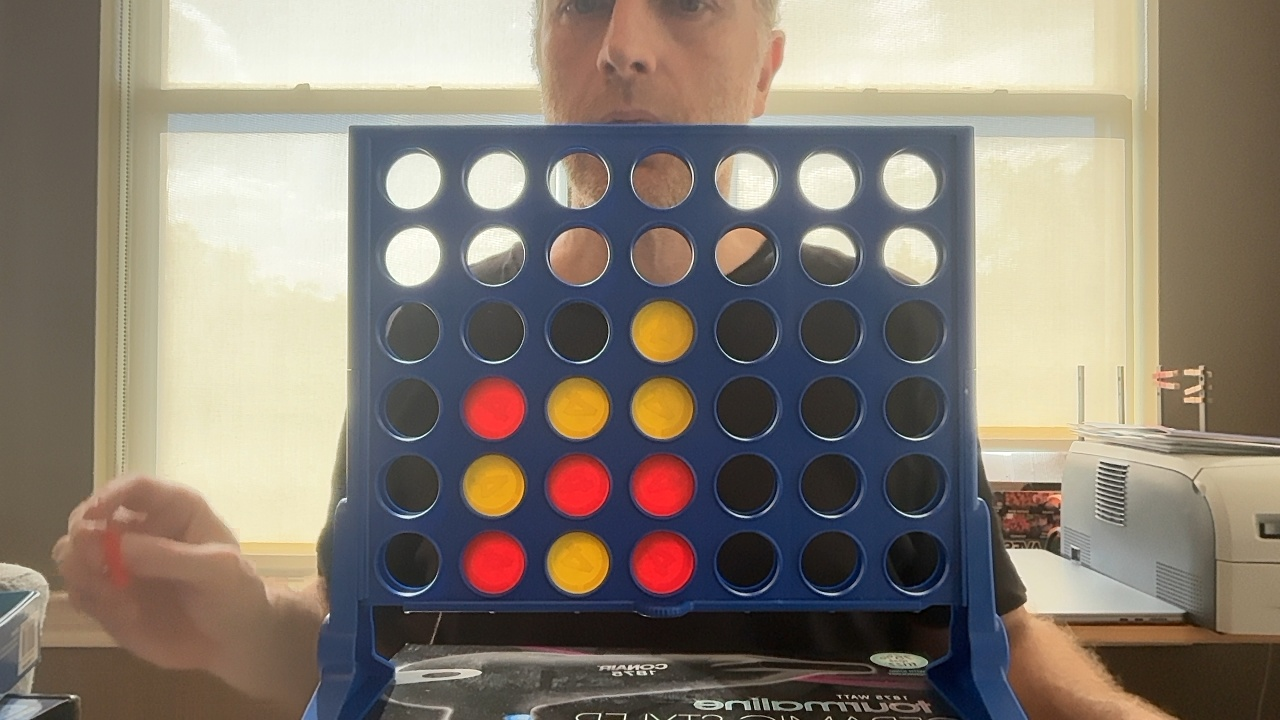red piece: (631, 531, 695, 595), (462, 531, 526, 594), (631, 454, 694, 517), (547, 454, 610, 517), (463, 377, 526, 439)
yellow piece: (547, 377, 610, 439), (631, 377, 694, 439), (547, 531, 609, 594), (632, 300, 694, 362), (462, 454, 524, 516)
